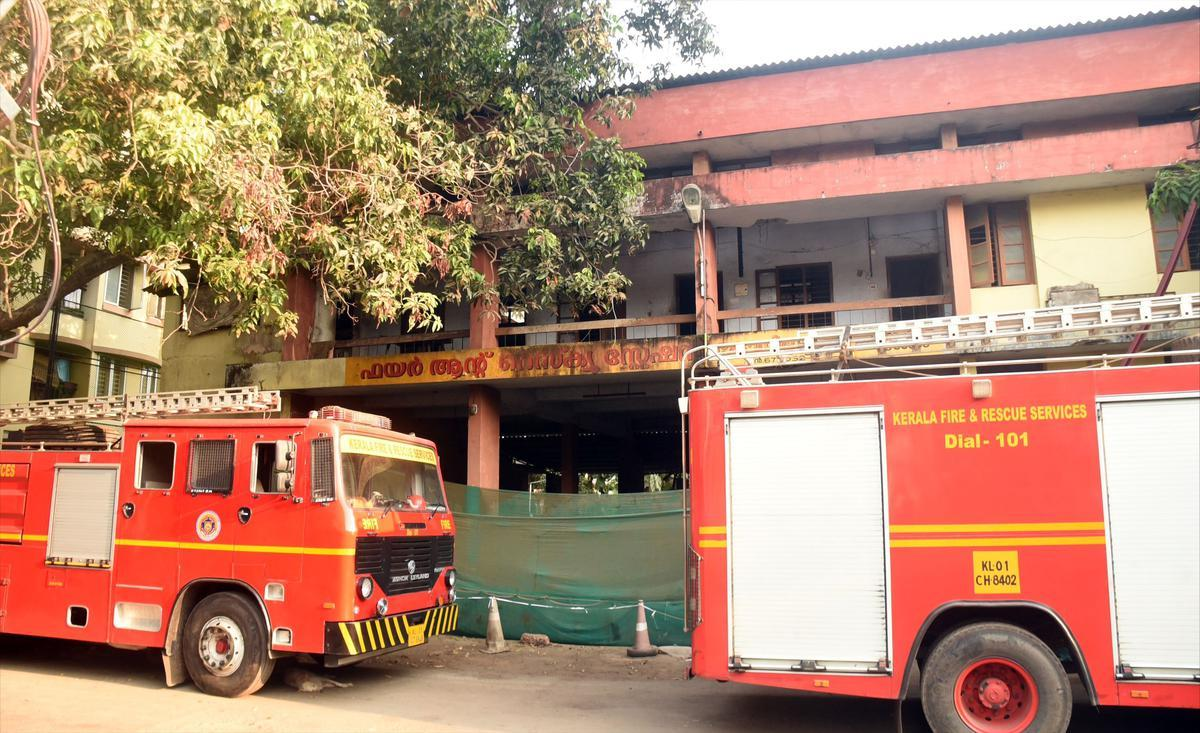Fire-engine: (679, 280, 1200, 733), (0, 385, 456, 703)
